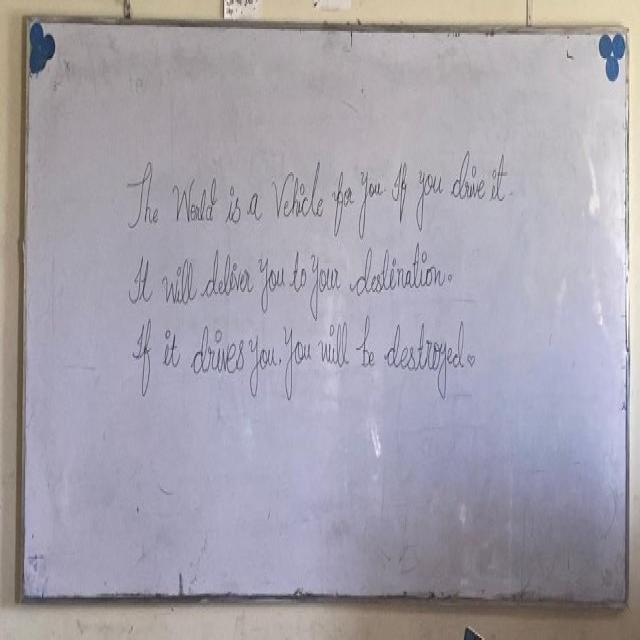White-board: (23, 14, 626, 603)
